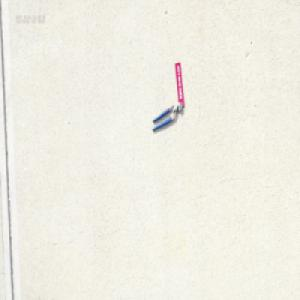Label: (173, 63, 183, 109)
Pliers: (150, 103, 181, 133)
